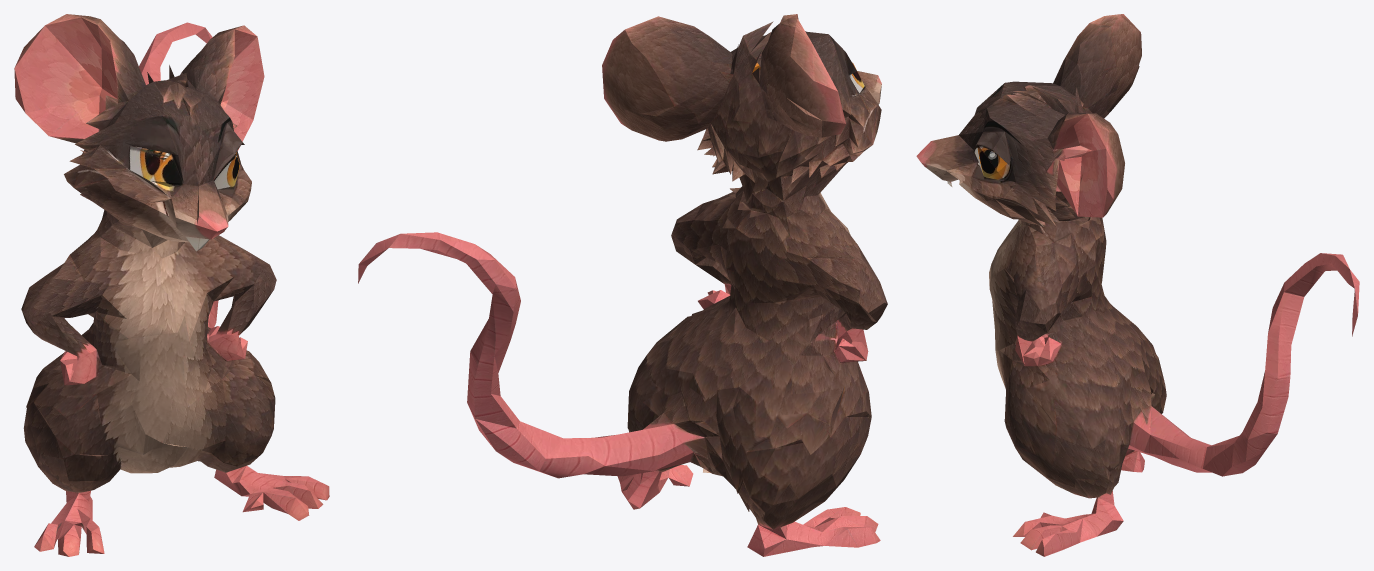
File: rat-stand.glb
The picture shows the model from 3 angles, left to right: view 1: azimuth 30°, elevation 25°; view 2: azimuth 150°, elevation 25°; view 3: azimuth 270°, elevation 25°; orthographic projection. The views are drawn at different scales.
Bounding box in the file's own units: 0.1468 × 0.2 × 0.179.
1 material, 1 textured.
